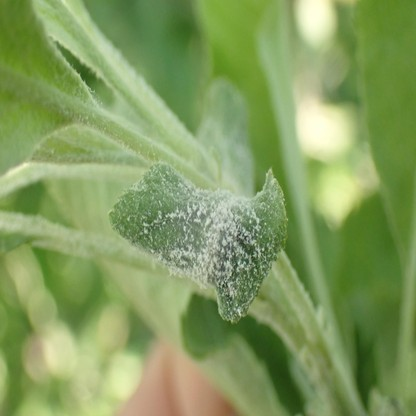powdery_mildew: (109, 162, 289, 325), (0, 1, 99, 161), (196, 78, 254, 192)
